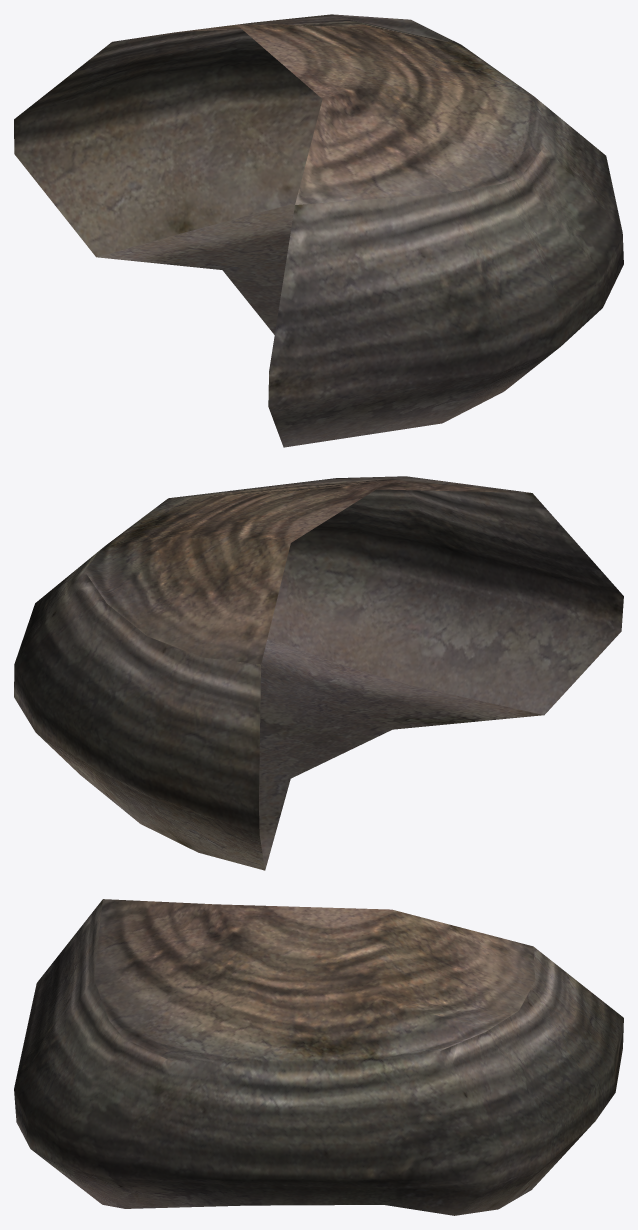
File: TimberFungus.FBX
3 views of the same model, one above another, from view 1: azimuth 30°, elevation 25°; view 2: azimuth 150°, elevation 25°; view 3: azimuth 270°, elevation 25° (orthographic). The views are drawn at different scales.
Parts seen in each view (by area): view 1: timberfungus; view 2: timberfungus; view 3: timberfungus.
Boxes of the visible parts, x1,y1,x2,y2 form: timberfungus: [14, 14, 623, 447]; timberfungus: [14, 476, 623, 870]; timberfungus: [14, 899, 623, 1215].
Bounding box in the file's own units: 34.43 × 21.31 × 45.73.
1 material, 1 textured.
